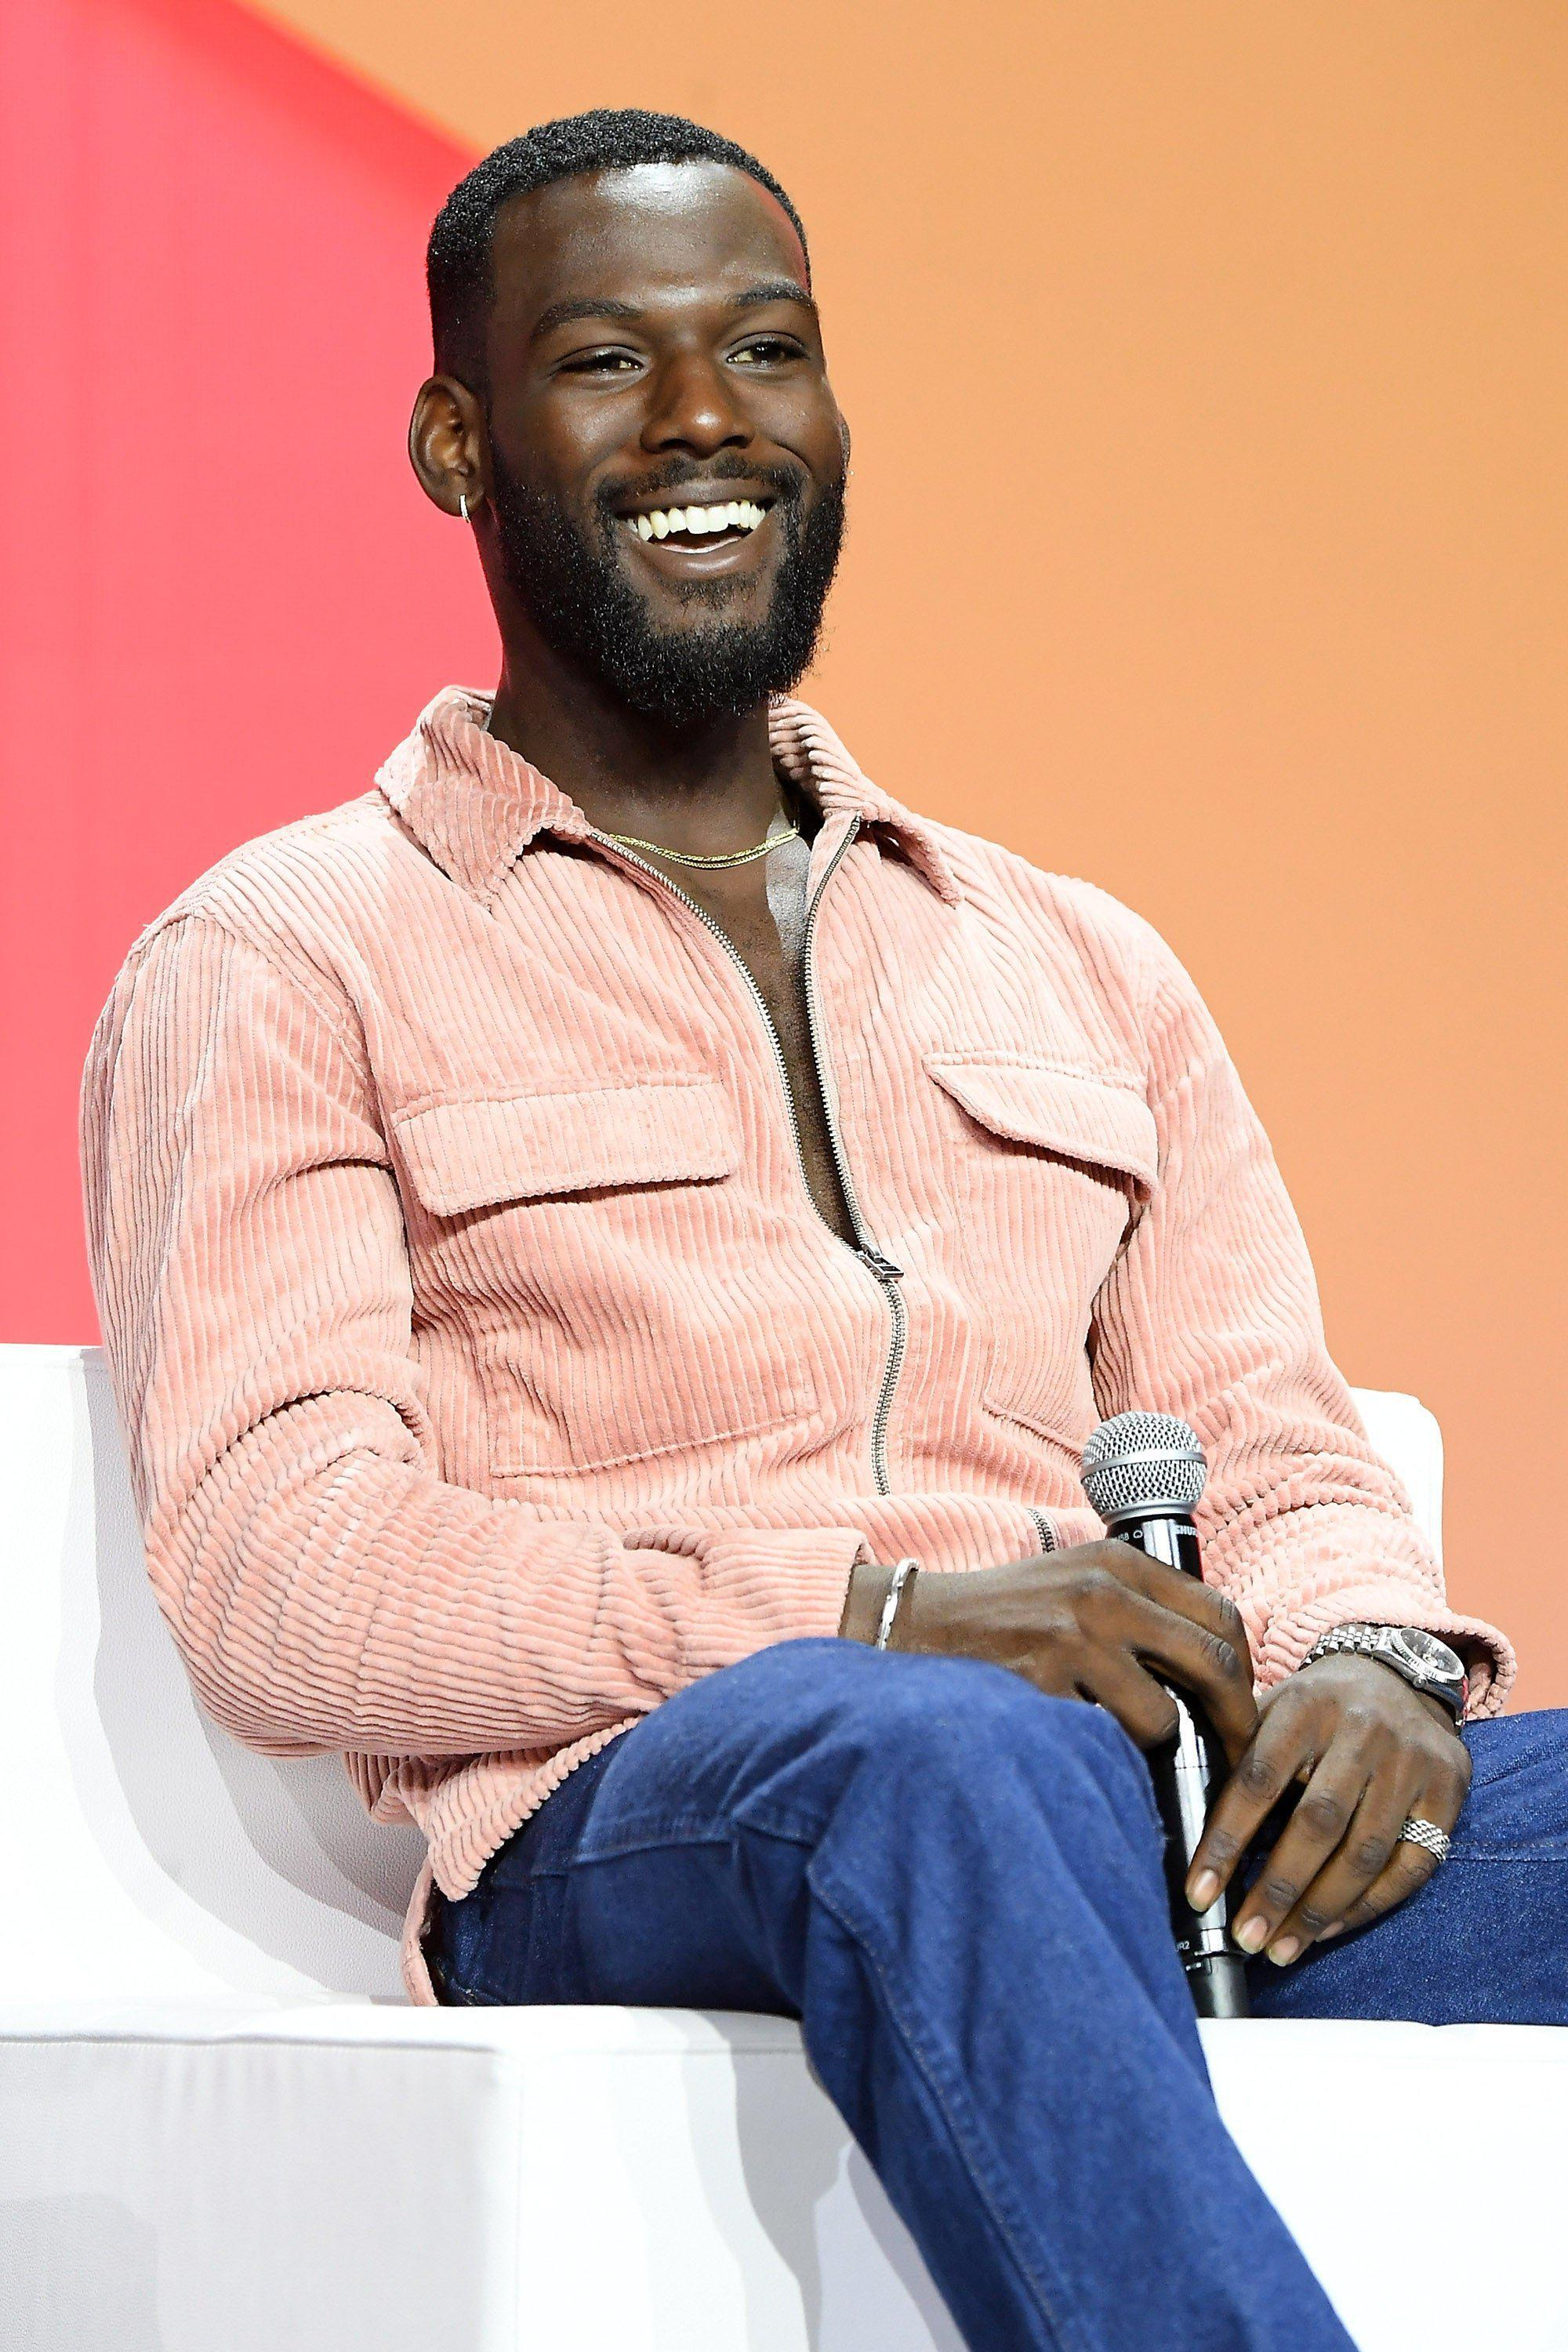Sober: (473, 170, 859, 693)
